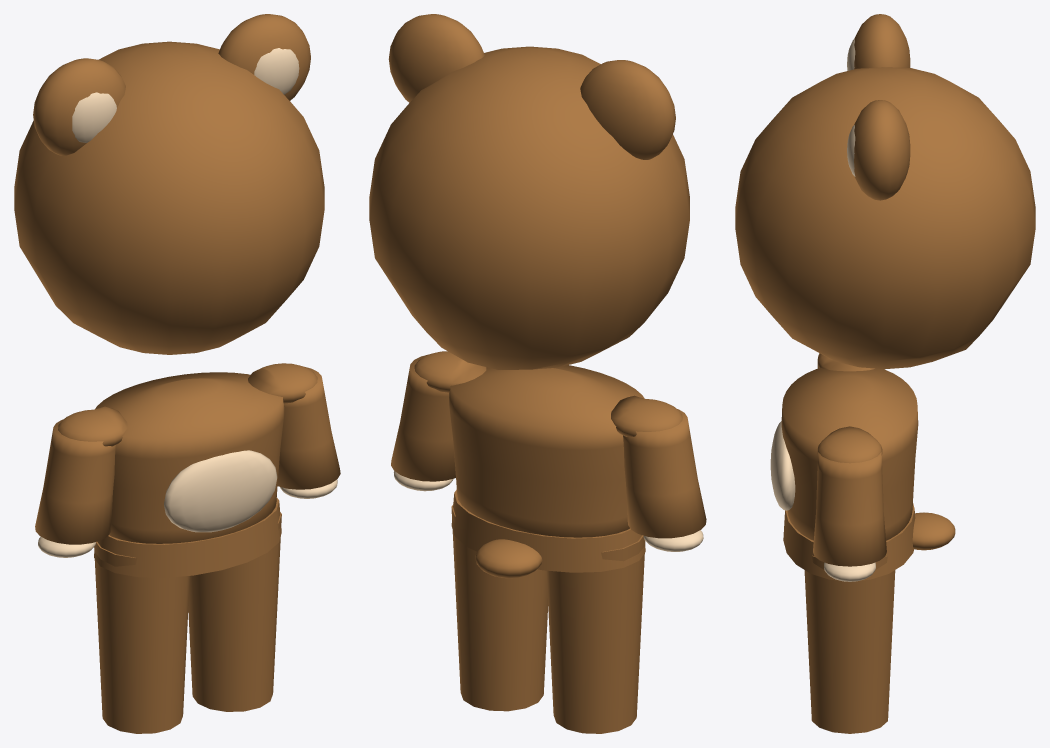
Rendered from suit_cute_1.glb.
The picture shows the model from 3 angles, left to right: view 1: azimuth 30°, elevation 25°; view 2: azimuth 150°, elevation 25°; view 3: azimuth 270°, elevation 25°; orthographic projection. The views are drawn at different scales.
Bounding box in the file's own units: 0.6992 × 1.48 × 0.6352.
